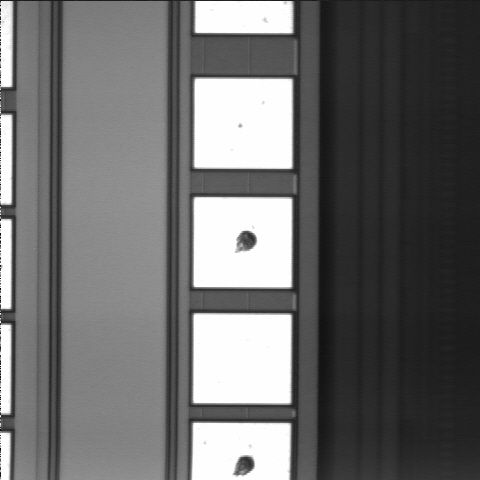pad: (194, 79, 292, 169), (194, 197, 292, 287), (193, 314, 291, 403)
